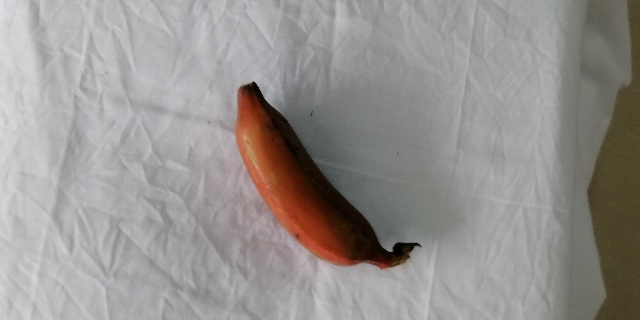banana_red: (233, 82, 419, 272)
